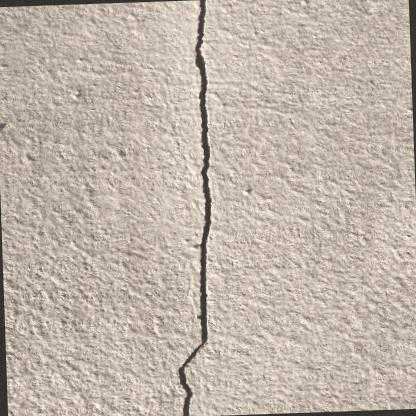crack: (177, 0, 211, 416)
